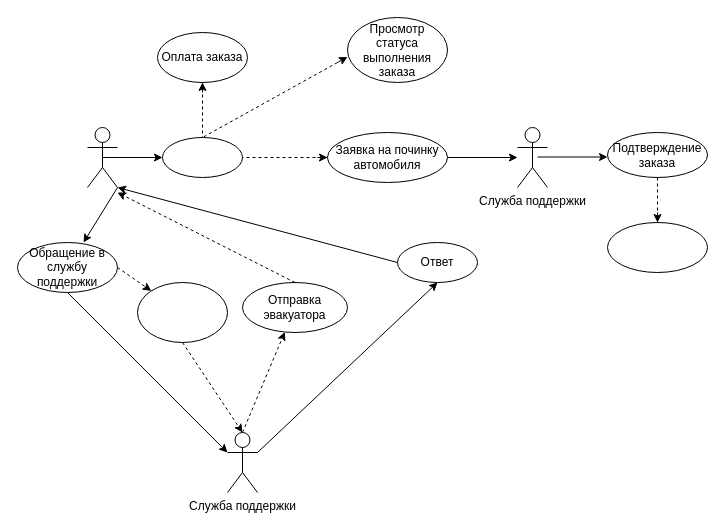
This 725x531 diagram has some shape labels left out. The centre of each missing label's shape, as x and y in pixels:
Авторизация: (202,157)
Вызов эвакуатора: (182,312)
Выполнение заказа: (657,247)
Клиент: (102,157)
